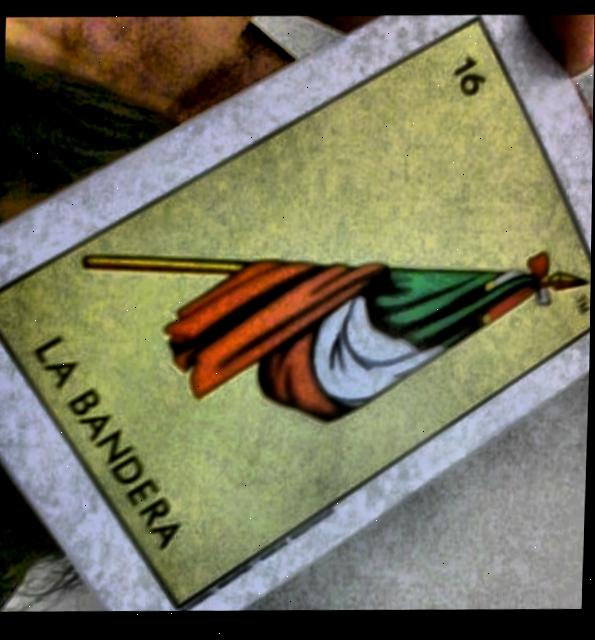La Bandera: (0, 24, 592, 604)
